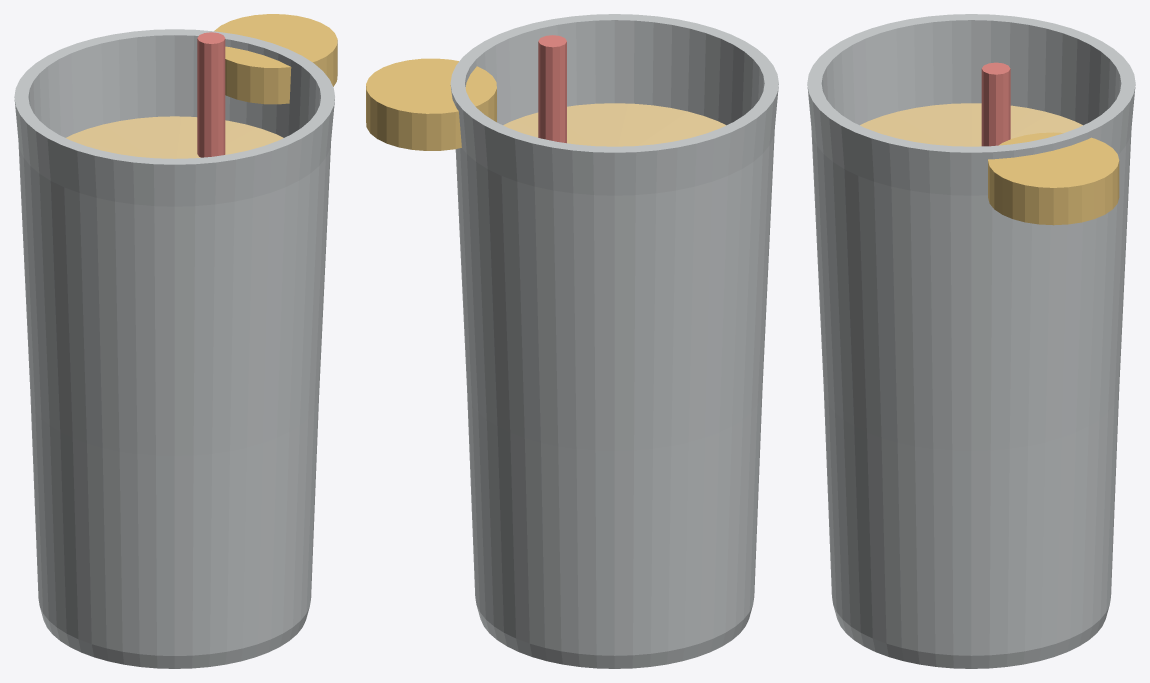
Rendered from morir_sonando.glb.
3 renders of one model, left to right at view 1: azimuth 30°, elevation 25°; view 2: azimuth 150°, elevation 25°; view 3: azimuth 270°, elevation 25°, orthographic. The views are drawn at different scales.
Visible parts, largest first — view 1: p1, p3, p0, p2; view 2: p1, p3, p0, p2; view 3: p1, p3, p0, p2.
Part boxes in pixels (x1,y1,x2,y2): p1: (14,29,334,668); p3: (214,14,337,104); p0: (66,116,283,158); p2: (197,32,225,157); p1: (450,14,778,668); p3: (366,58,496,150); p0: (503,103,726,146); p2: (538,35,566,143); p1: (807,14,1135,668); p3: (988,132,1119,225); p0: (860,103,1082,146); p2: (981,62,1010,146).
Size of the model in its own units: 0.096 by 0.1525 by 0.08.
